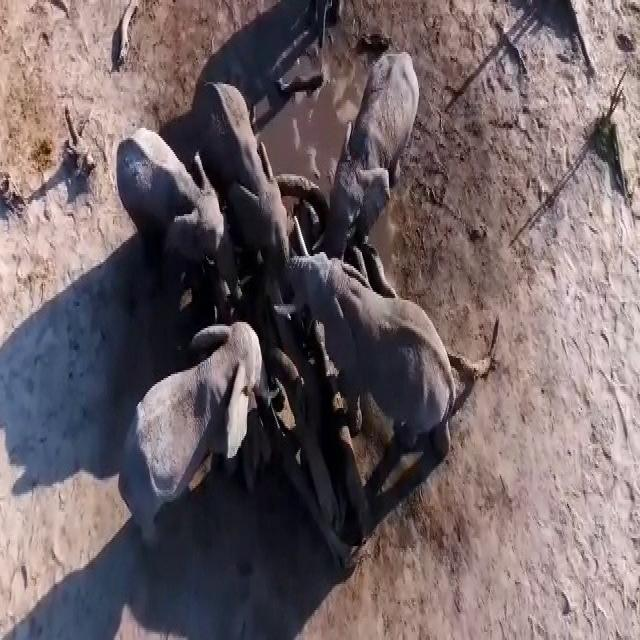Elephant: (118, 310, 264, 562), (298, 254, 458, 428), (206, 70, 291, 279), (336, 46, 432, 231), (113, 125, 222, 279)
